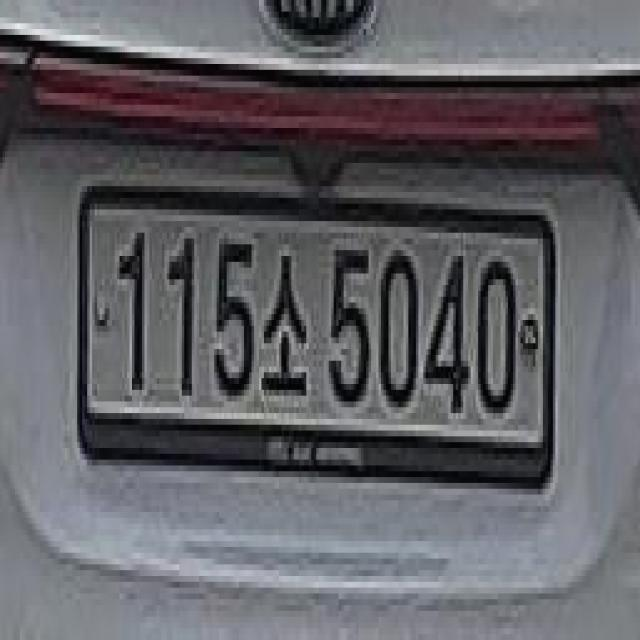illegal_plate: (75, 176, 554, 509)
